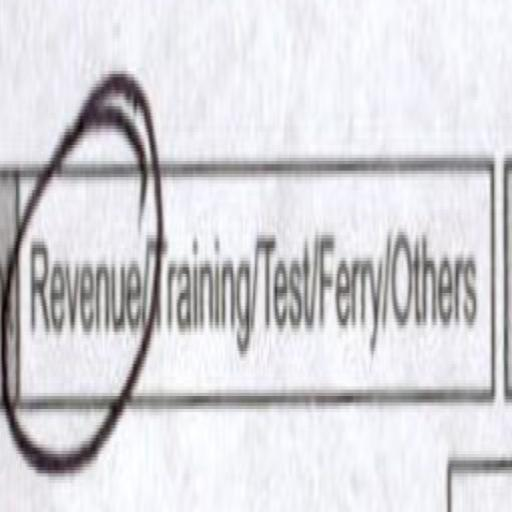check: (19, 115, 145, 508)
